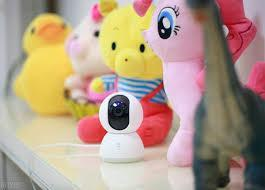maru: (94, 94, 146, 140)
